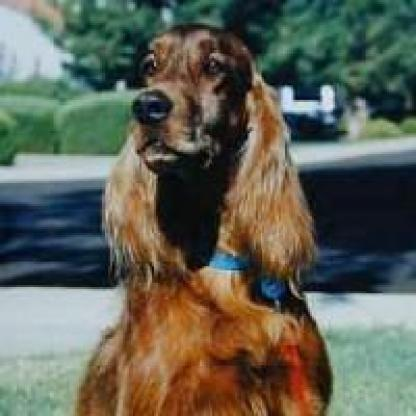Irish_setter: (71, 19, 339, 412)
